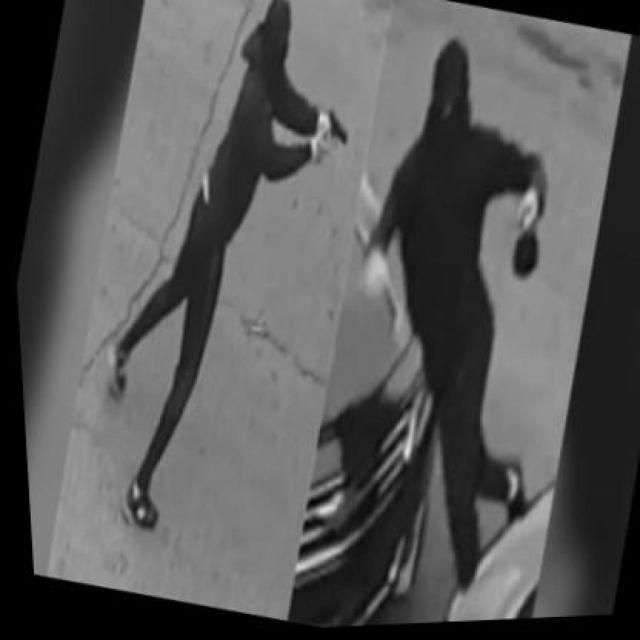weapon: (319, 112, 350, 151)
